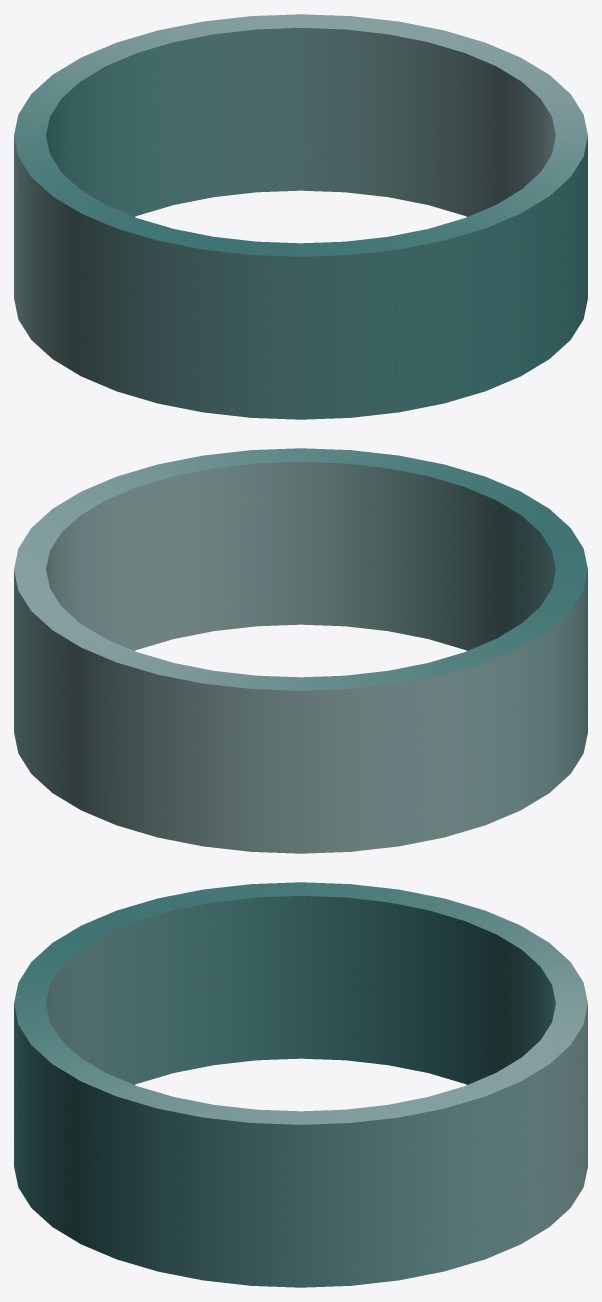
The model's file is yuanhuan.gltf.
3 views of the same model, one above another, from view 1: azimuth 30°, elevation 25°; view 2: azimuth 150°, elevation 25°; view 3: azimuth 270°, elevation 25° (orthographic).
Visible parts, largest first — view 1: yuanhuan; view 2: yuanhuan; view 3: yuanhuan.
Part boxes in pixels (bbox=[...]): yuanhuan: bbox=[14, 14, 587, 419]; yuanhuan: bbox=[14, 448, 587, 853]; yuanhuan: bbox=[14, 882, 587, 1287].
Bounding box in the file's own units: 0.1039 × 0.0325 × 0.1039.
Materials: 1 (1 with a texture image).
